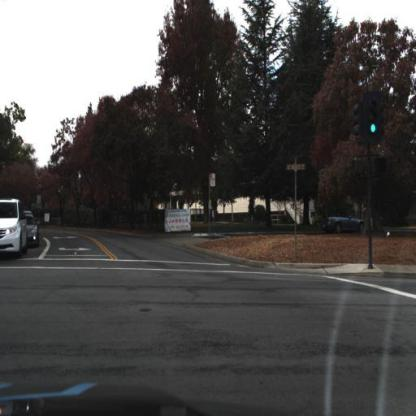car: (0, 194, 25, 255), (320, 209, 364, 235), (24, 208, 39, 249)
trafficLight-Green: (362, 79, 385, 144)
